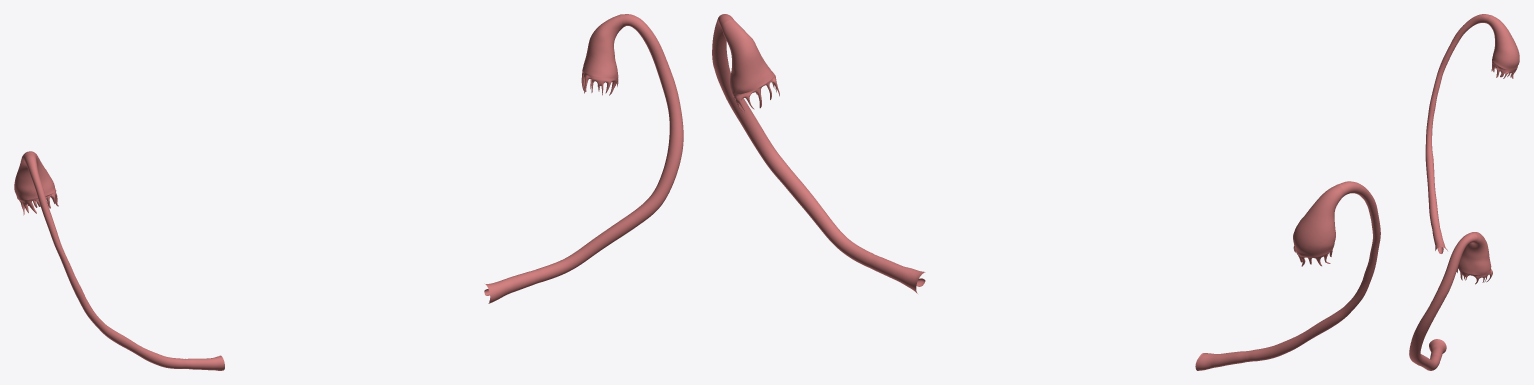
File: fallopian-tubes.glb
The picture shows the model from 3 angles, left to right: view 1: azimuth 30°, elevation 25°; view 2: azimuth 150°, elevation 25°; view 3: azimuth 270°, elevation 25°; orthographic projection. The views are drawn at different scales.
Parts seen in each view (by area): view 1: VH_F_ampulla_of_uterine_tube_L, VH_F_ampulla_of_uterine_tube_R, VH_F_uterine_tube_infundibulum_L, VH_F_uterine_tube_infundibulum_R, VH_F_isthmus_of_fallopian_tube_L; view 2: VH_F_ampulla_of_uterine_tube_L, VH_F_ampulla_of_uterine_tube_R, VH_F_uterine_tube_infundibulum_R, VH_F_uterine_tube_infundibulum_L, VH_F_isthmus_of_fallopian_tube_L, VH_F_isthmus_of_fallopian_tube_R; view 3: VH_F_ampulla_of_uterine_tube_L, VH_F_ampulla_of_uterine_tube_R, VH_F_uterine_tube_infundibulum_R, VH_F_uterine_tube_infundibulum_L, VH_F_isthmus_of_fallopian_tube_L, VH_F_isthmus_of_fallopian_tube_R, VH_F_fibria_of_uterine_tube_R, VH_F_fibria_of_uterine_tube_L.
Boxes of the visible parts, box(x1,y1,x2,y2) form: VH_F_ampulla_of_uterine_tube_L: box(534, 14, 683, 282); VH_F_ampulla_of_uterine_tube_R: box(23, 152, 188, 368); VH_F_uterine_tube_infundibulum_L: box(582, 14, 624, 78); VH_F_uterine_tube_infundibulum_R: box(14, 151, 55, 200); VH_F_isthmus_of_fallopian_tube_L: box(484, 270, 538, 303); VH_F_ampulla_of_uterine_tube_L: box(712, 14, 875, 267); VH_F_ampulla_of_uterine_tube_R: box(1246, 181, 1380, 361); VH_F_uterine_tube_infundibulum_R: box(1293, 184, 1344, 256); VH_F_uterine_tube_infundibulum_L: box(721, 20, 773, 94); VH_F_isthmus_of_fallopian_tube_L: box(869, 255, 925, 293); VH_F_isthmus_of_fallopian_tube_R: box(1195, 351, 1247, 370); VH_F_ampulla_of_uterine_tube_L: box(1409, 232, 1477, 370); VH_F_ampulla_of_uterine_tube_R: box(1425, 14, 1491, 228); VH_F_uterine_tube_infundibulum_R: box(1487, 15, 1519, 69); VH_F_uterine_tube_infundibulum_L: box(1458, 232, 1491, 275); VH_F_isthmus_of_fallopian_tube_L: box(1429, 339, 1446, 360); VH_F_isthmus_of_fallopian_tube_R: box(1432, 225, 1447, 253); VH_F_fibria_of_uterine_tube_R: box(1491, 60, 1516, 78); VH_F_fibria_of_uterine_tube_L: box(1456, 266, 1492, 284).
Size of the model in its own units: 0.1244 by 0.0455 by 0.0245.
